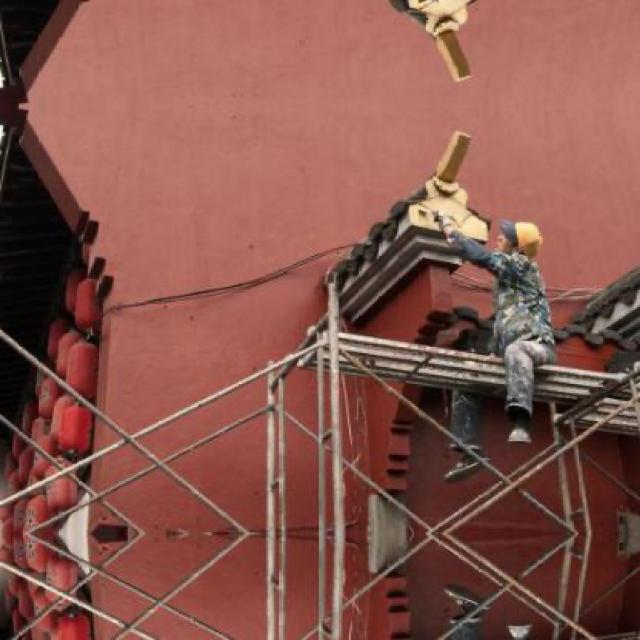con casco: (500, 205, 547, 261)
